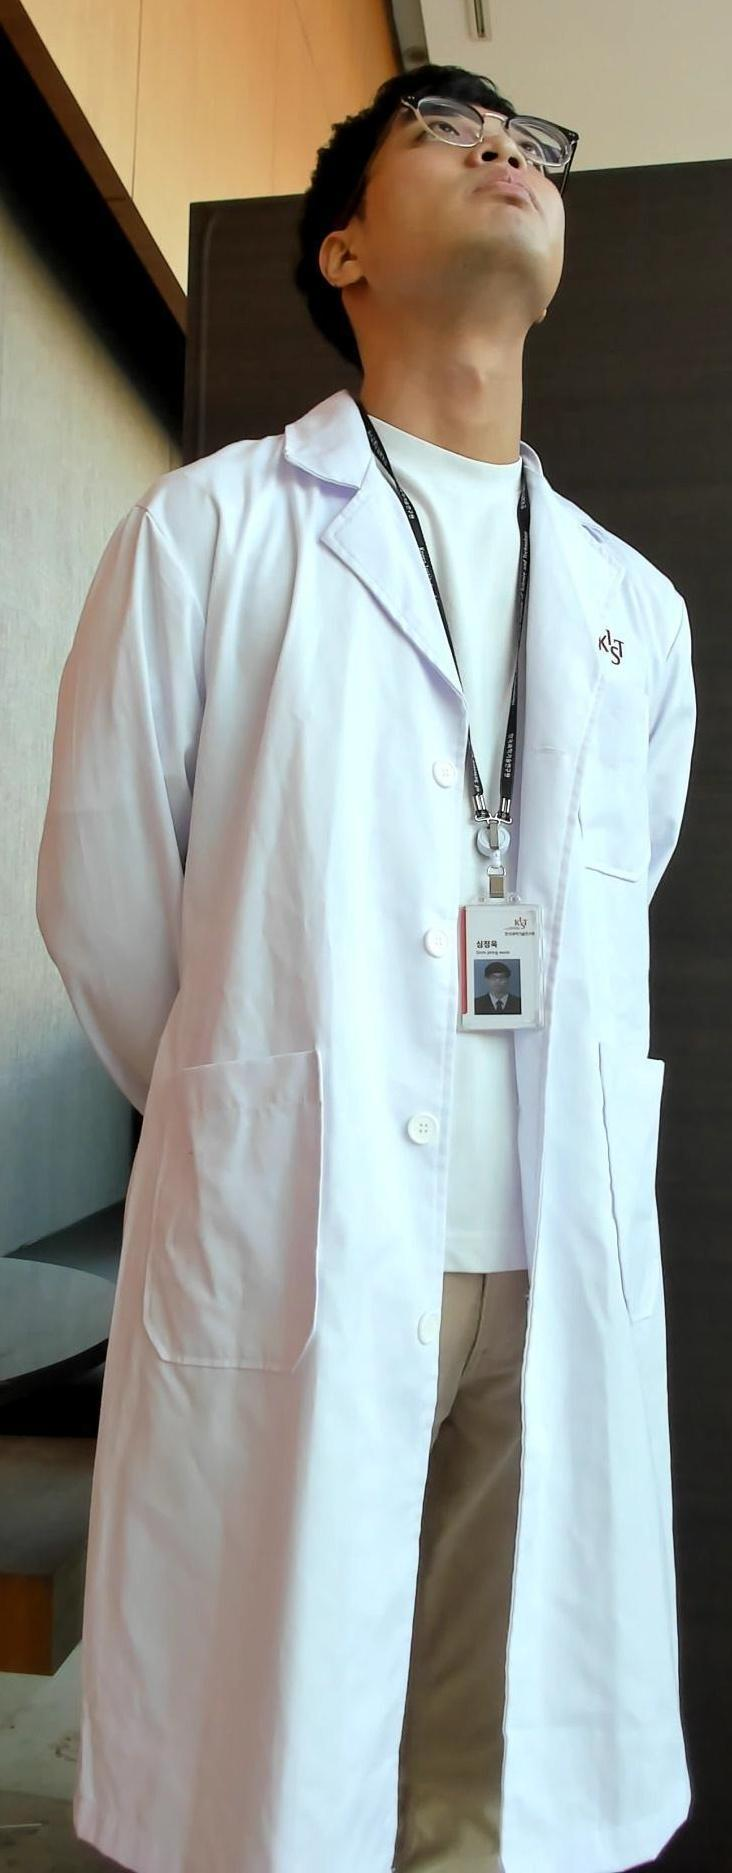lab_coat: (41, 454, 694, 1873)
